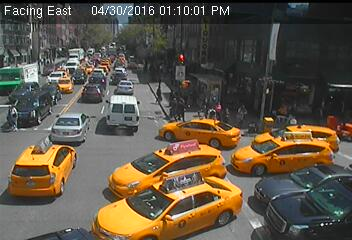neg: (191, 78, 204, 95), (140, 58, 152, 74), (176, 51, 187, 65), (128, 54, 137, 66)
pos: (2, 102, 24, 131), (232, 101, 250, 125), (173, 97, 191, 121), (166, 98, 181, 118), (212, 98, 227, 117), (152, 85, 166, 103), (221, 106, 234, 123), (206, 105, 215, 117)
